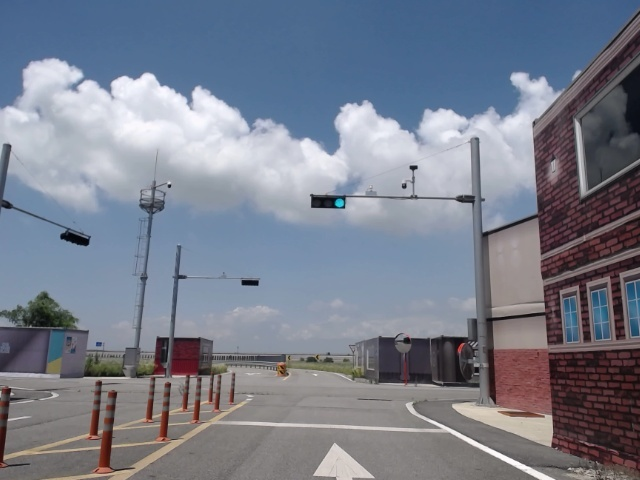green_3: (311, 197, 344, 208)
